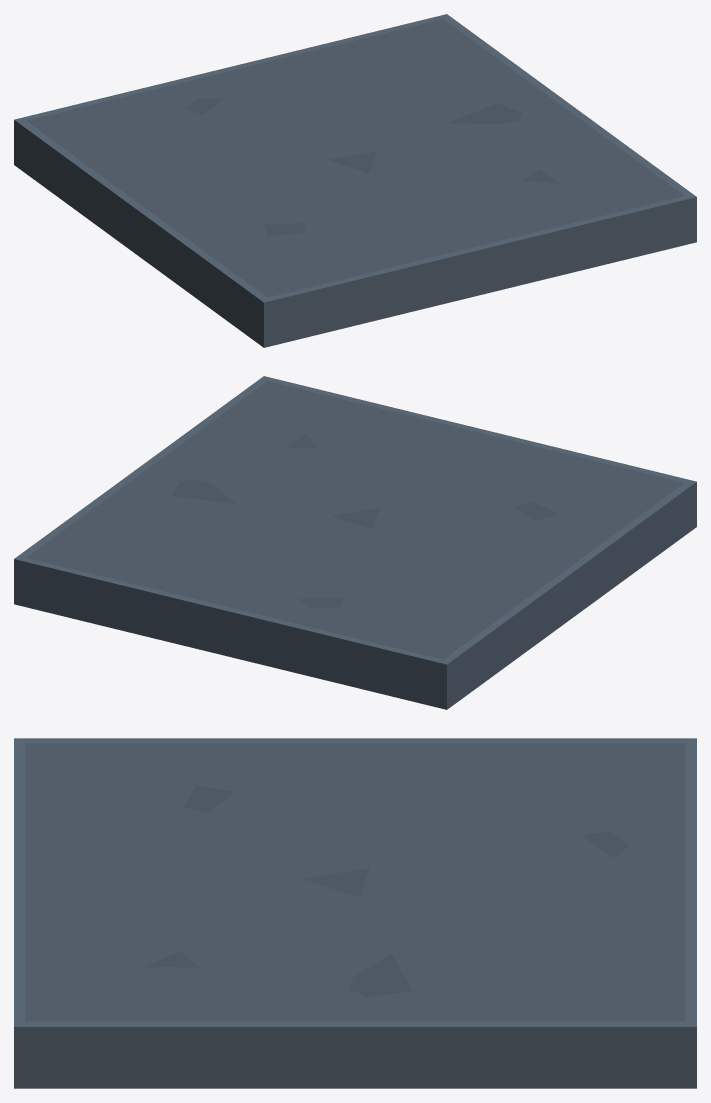
File: ConcrateSlabs_C_2_2.obj
The picture shows the model from 3 angles, top to bottom: view 1: azimuth 30°, elevation 25°; view 2: azimuth 150°, elevation 25°; view 3: azimuth 270°, elevation 25°; orthographic projection. The views are drawn at different scales.
Parts seen in each view (by area): view 1: ConcrateSlabs_C_2_2; view 2: ConcrateSlabs_C_2_2; view 3: ConcrateSlabs_C_2_2.
Part boxes in pixels (<box>): ConcrateSlabs_C_2_2: <box>14,14,696,347</box>; ConcrateSlabs_C_2_2: <box>14,376,696,709</box>; ConcrateSlabs_C_2_2: <box>14,738,696,1088</box>.
Bounding box in the file's own units: 4 × 0.4 × 4.
